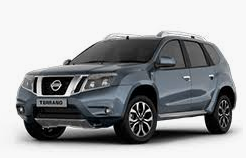car: (15, 30, 237, 146)
